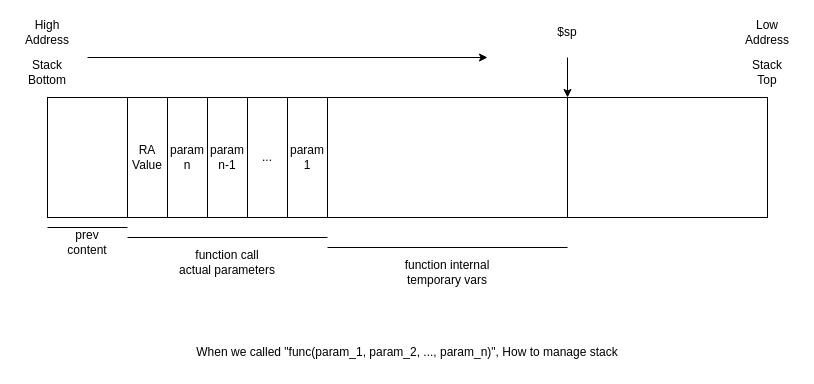
Image size: 814x384. Some labels were removed from this diagram. Here are the shapes that lost their labels. From the top down, the centre of each, then its label:
the point at 87,157: Old Content ...
the point at 447,157: Temporary Variables
